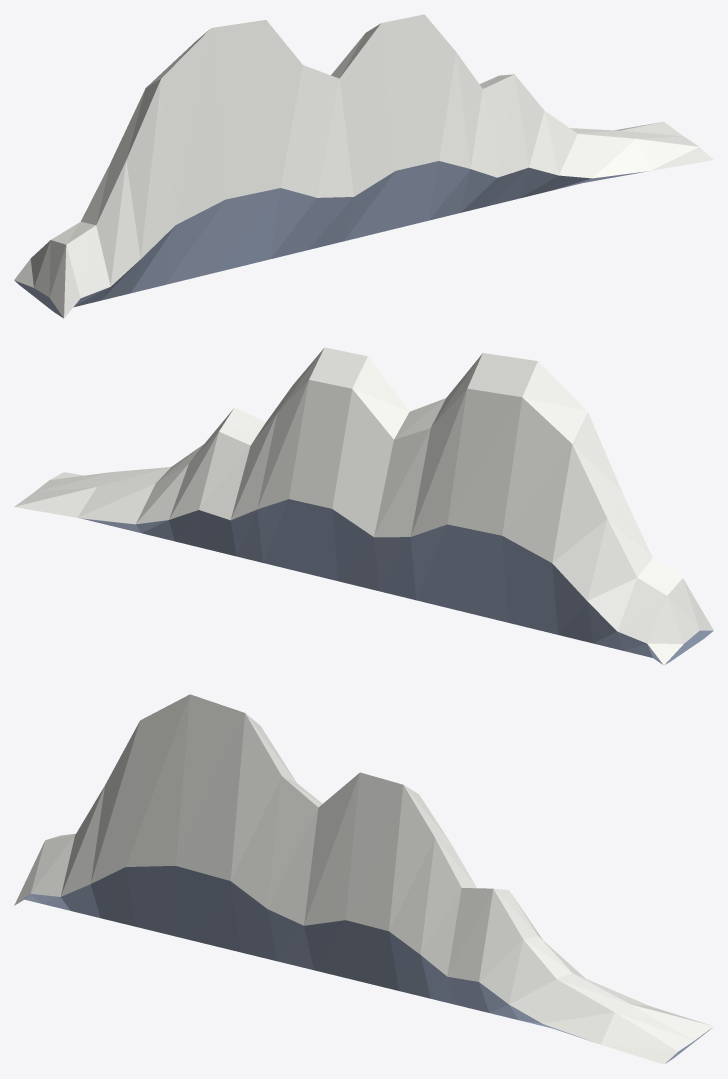
The picture shows the model from 3 angles, top to bottom: view 1: azimuth 30°, elevation 25°; view 2: azimuth 150°, elevation 25°; view 3: azimuth 330°, elevation 25°; orthographic projection.
Visible parts, largest first — view 1: 鼓起折面云团与淡蓝纸背.001; view 2: 鼓起折面云团与淡蓝纸背.001; view 3: 鼓起折面云团与淡蓝纸背.001.
Boxes of the visible parts, box(x1,y1,x2,y2) form: 鼓起折面云团与淡蓝纸背.001: box(14, 14, 713, 318); 鼓起折面云团与淡蓝纸背.001: box(14, 347, 713, 665); 鼓起折面云团与淡蓝纸背.001: box(14, 694, 713, 1064).
Size of the model in its own units: 3.9 by 1.38 by 0.52.
